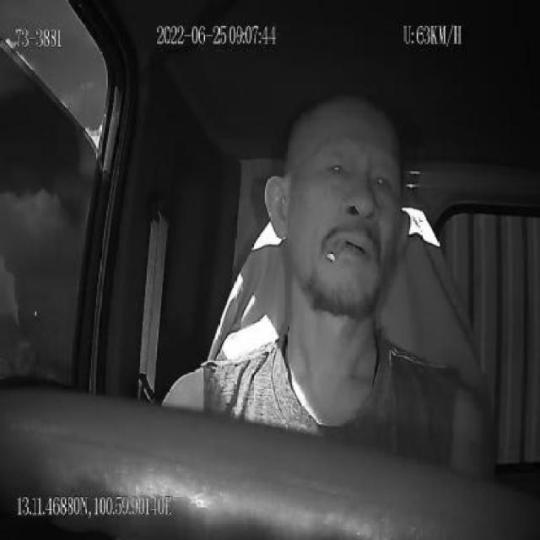smoking: (327, 238, 345, 262)
